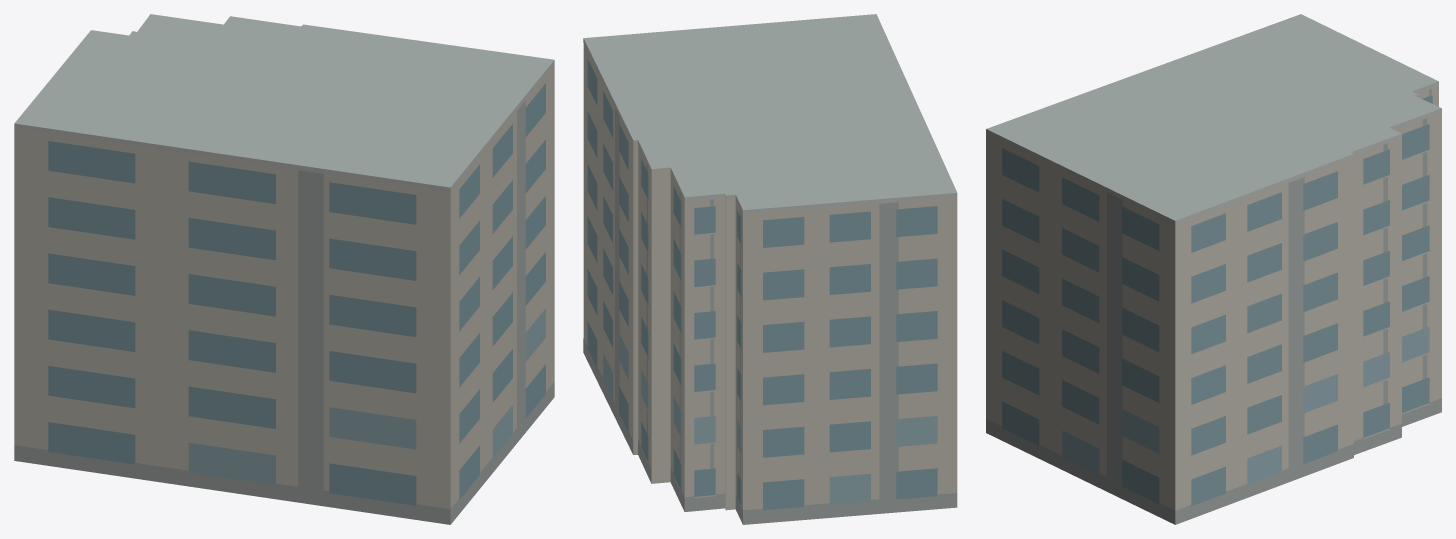
Rendered from survey-upis-32854239.glb.
3 renders of one model, left to right at view 1: azimuth 30°, elevation 25°; view 2: azimuth 150°, elevation 25°; view 3: azimuth 270°, elevation 25°, orthographic. The views are drawn at different scales.
Visible parts, largest first — view 1: survey-upis-32854239.tmp; view 2: survey-upis-32854239.tmp; view 3: survey-upis-32854239.tmp.
Part boxes in pixels (x1,y1,x2,y2): survey-upis-32854239.tmp: (14, 14, 554, 524); survey-upis-32854239.tmp: (583, 14, 957, 524); survey-upis-32854239.tmp: (986, 14, 1441, 524).
Size of the model in its own units: 24.31 by 16.65 by 22.63.
